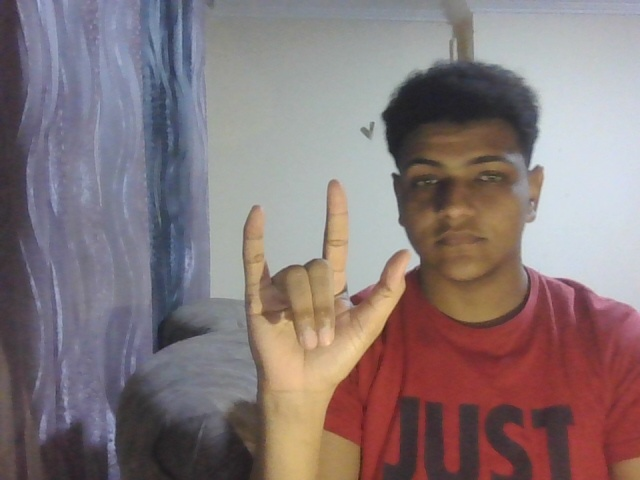iloveyou: (230, 171, 426, 409)
